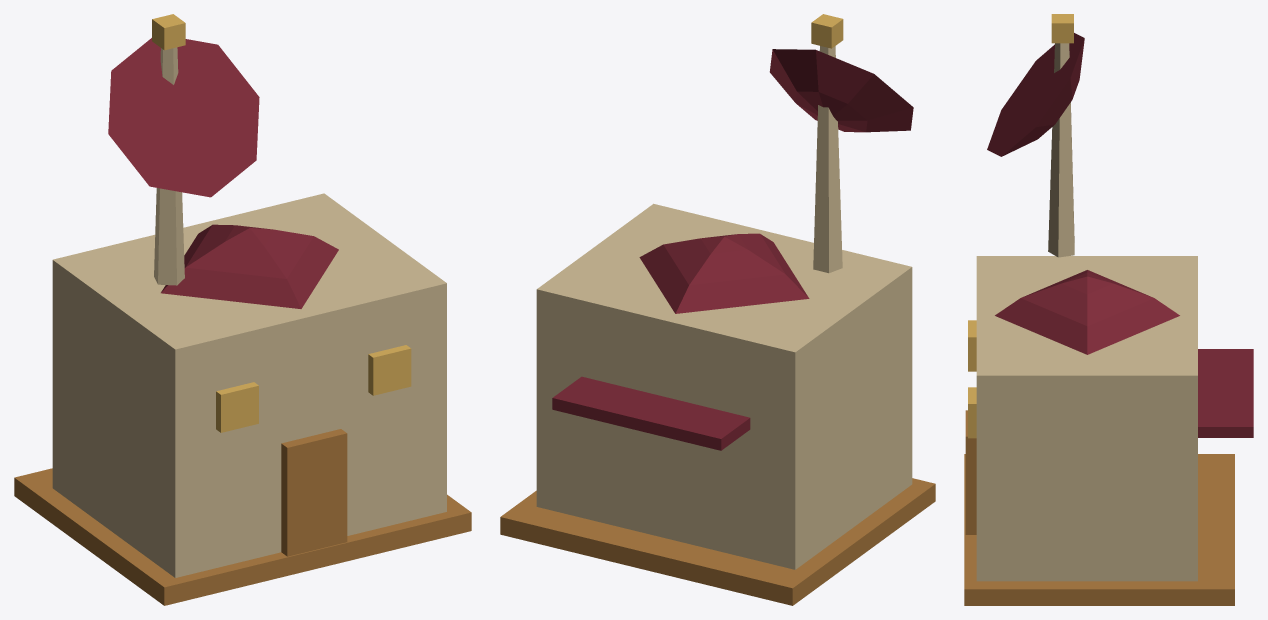
File: kiln_office.gltf
The picture shows the model from 3 angles, left to right: view 1: azimuth 30°, elevation 25°; view 2: azimuth 150°, elevation 25°; view 3: azimuth 270°, elevation 25°; orthographic projection. The views are drawn at different scales.
Visible parts, largest first — view 1: office; view 2: office; view 3: office.
Part boxes in pixels (x1,y1,x2,y2): office: (14,14,471,605); office: (500,14,935,605); office: (964,14,1253,605).
Bounding box in the file's own units: 5.48 × 8.58 × 4.7.
